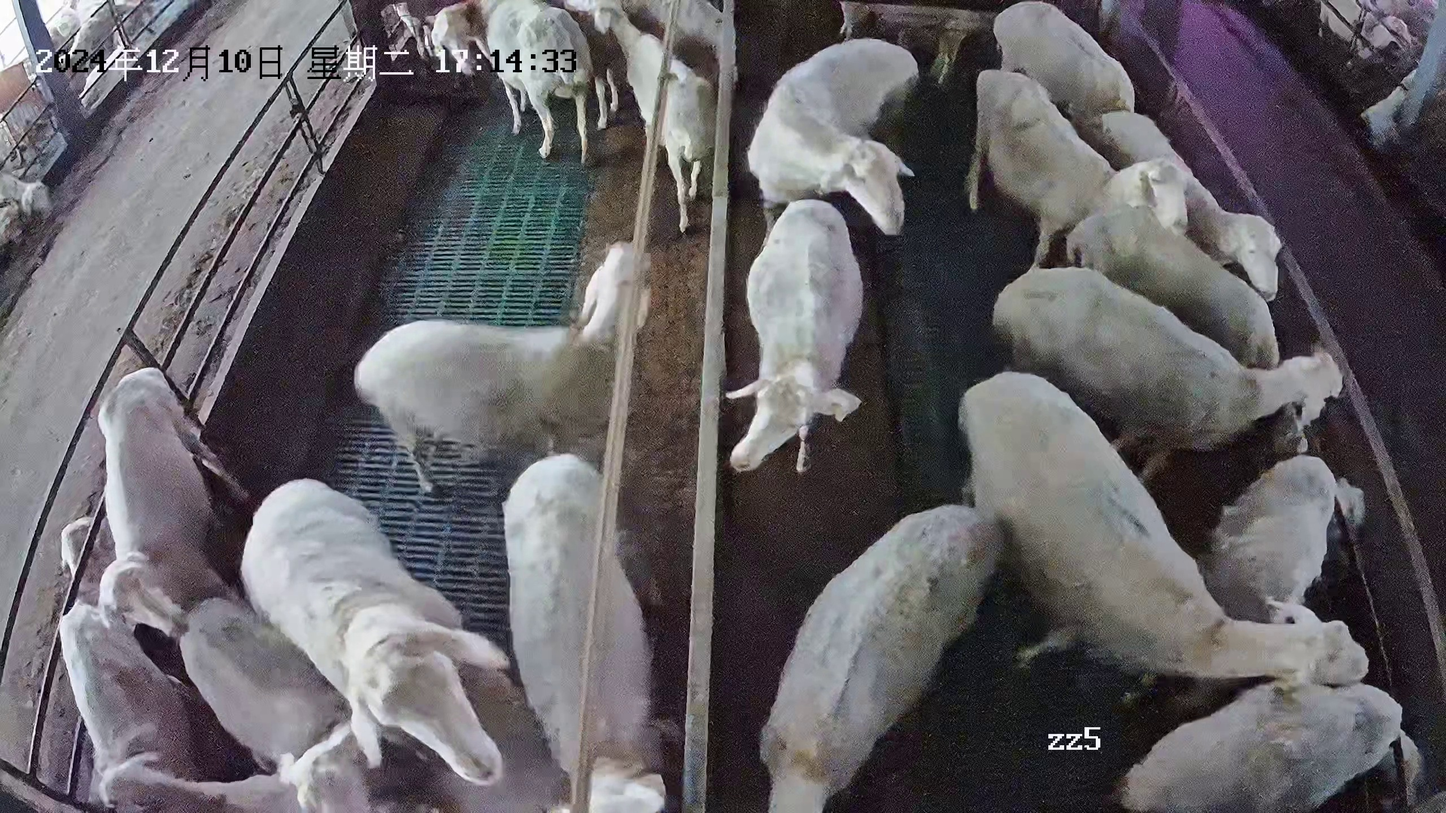Smounting: (238, 474, 571, 813)
mounted: (402, 653, 568, 813)
